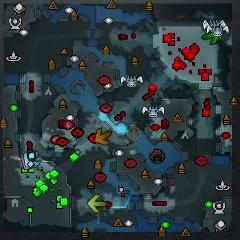x1: (20, 153, 29, 170)
x2: (87, 194, 107, 212)
x3: (23, 151, 41, 168)
x4: (201, 32, 220, 44)
x5: (93, 127, 112, 147)
